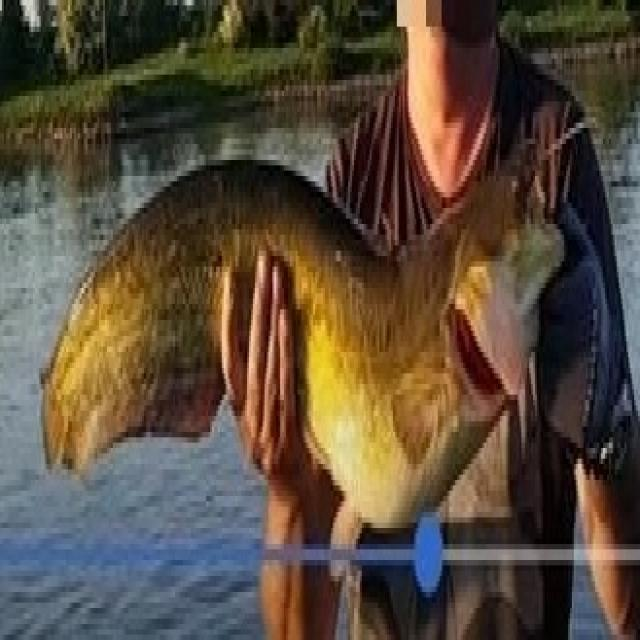Catfish: (28, 140, 578, 562)
